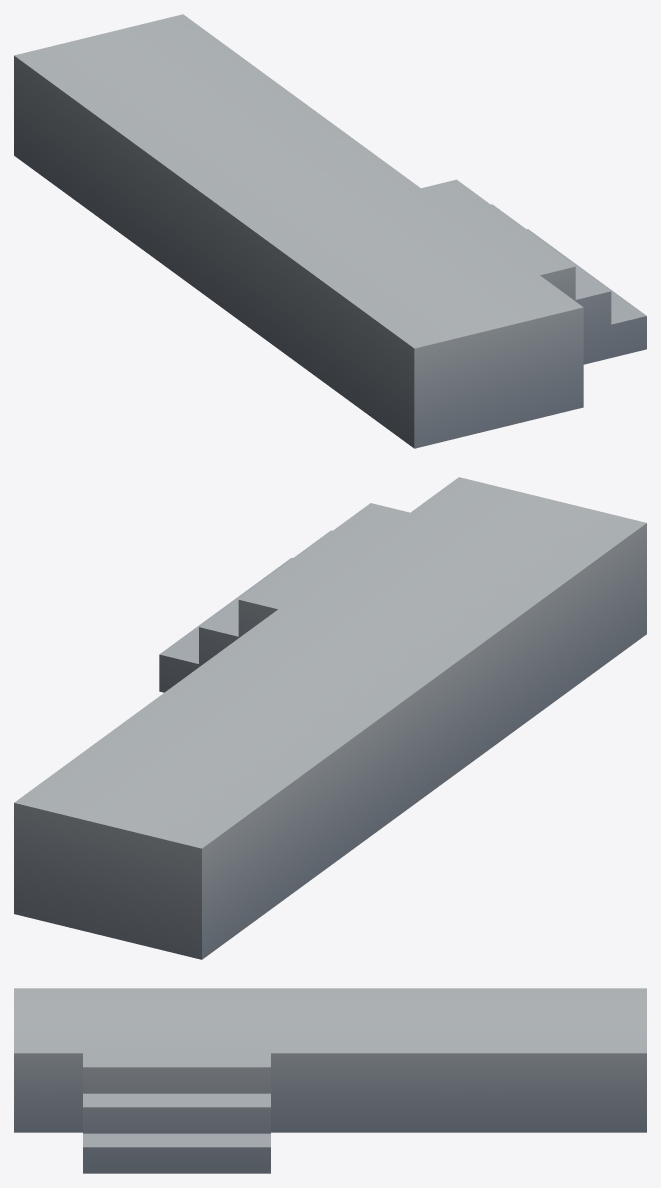
The model's file is Stairs.fbx.
3 views of the same model, one above another, from view 1: azimuth 30°, elevation 25°; view 2: azimuth 150°, elevation 25°; view 3: azimuth 270°, elevation 25° (orthographic). The views are drawn at different scales.
Parts seen in each view (by area): view 1: pCube66; view 2: pCube66; view 3: pCube66.
Boxes of the visible parts, x1,y1,x2,y2 form: pCube66: (14,14,646,448); pCube66: (14,477,646,959); pCube66: (14,988,646,1173).
Size of the model in its own units: 2.75 by 0.9515 by 6.9.
1 material, 1 textured.
